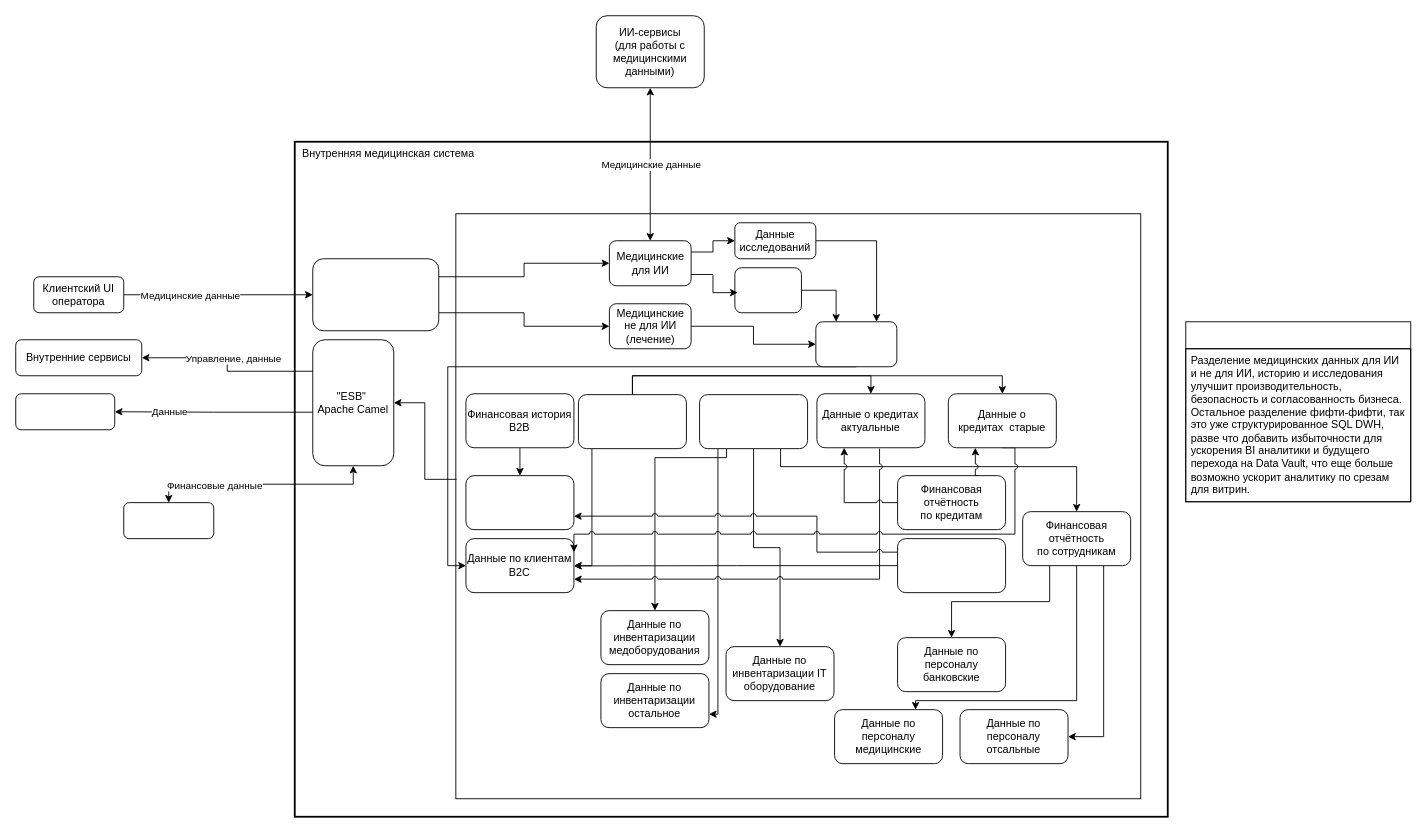
Image size: 1427x833. Some labels were removed from this diagram. Each missing label, with the box of its shape:
BI-система: (123, 502, 214, 539)
DWH: (455, 213, 1141, 799)
Аргументируйте логику разделения: (1185, 321, 1411, 502)
Данные по клиентам B2B: (465, 475, 574, 530)
Интерфейс на Power Builder для прямой работы операторов в клиниках: (312, 258, 439, 331)
Истории болезни: (734, 267, 801, 313)
Медицинские карты: (815, 321, 897, 367)
Счета (хз что это): (699, 394, 808, 449)
Финансовая история B2C: (578, 394, 686, 449)
Финансовая отчётность по медуслугам: (897, 538, 1006, 593)
Финтех-сервисы: (15, 393, 115, 430)
